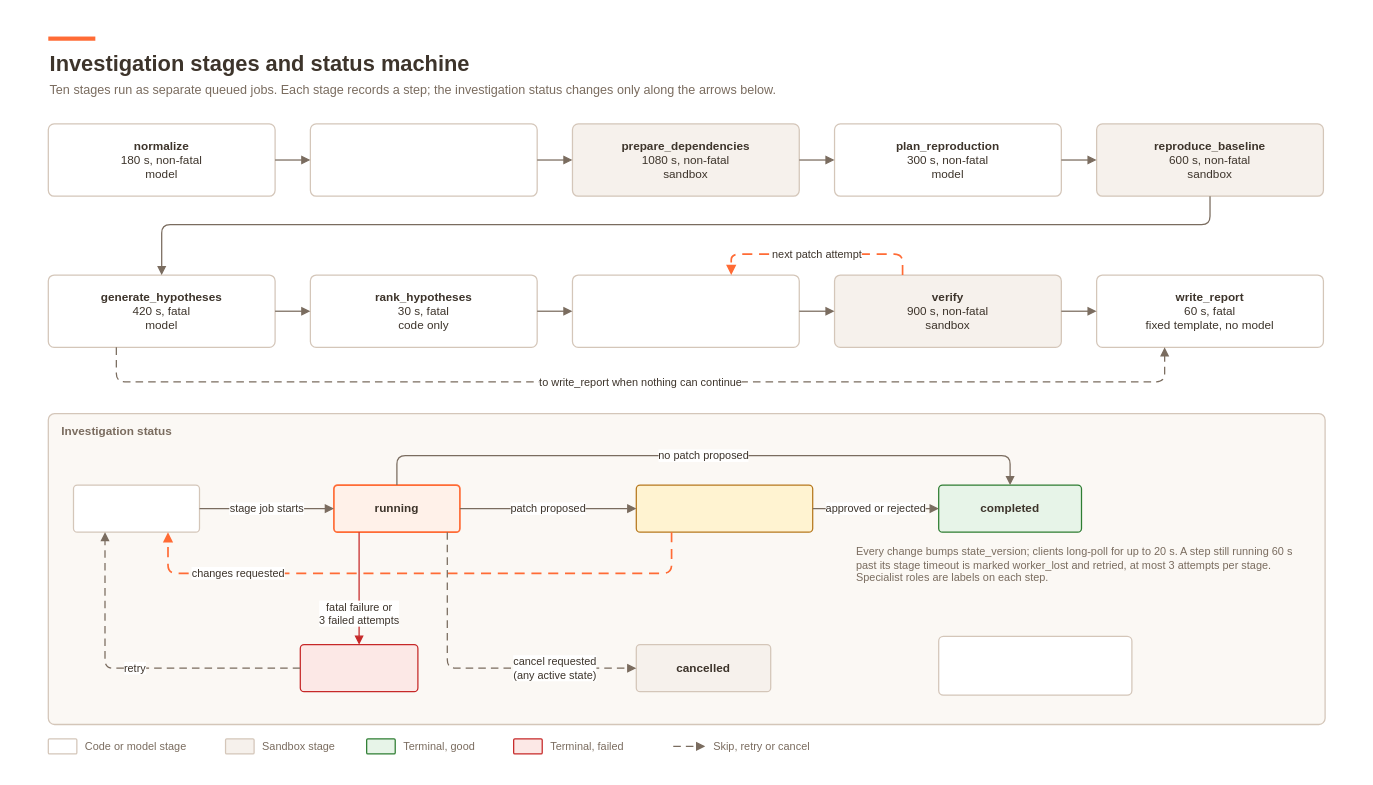
Some shapes in this 1373 by 785 pixel diagram are drawn without their labels. Here are the shapes that lost their labels. From the top down, the centre of each, then its label:
At point (423, 159): "collect_context 180 s, fatal code only: git and parser".
At point (685, 311): "generate_patch 420 s, non-fatal model, policy, impact".
At point (136, 508): "queued".
At point (724, 508): "awaiting_approval".
At point (358, 668): "failed".
At point (1035, 665): "needs_input waiting for more input from the person".
